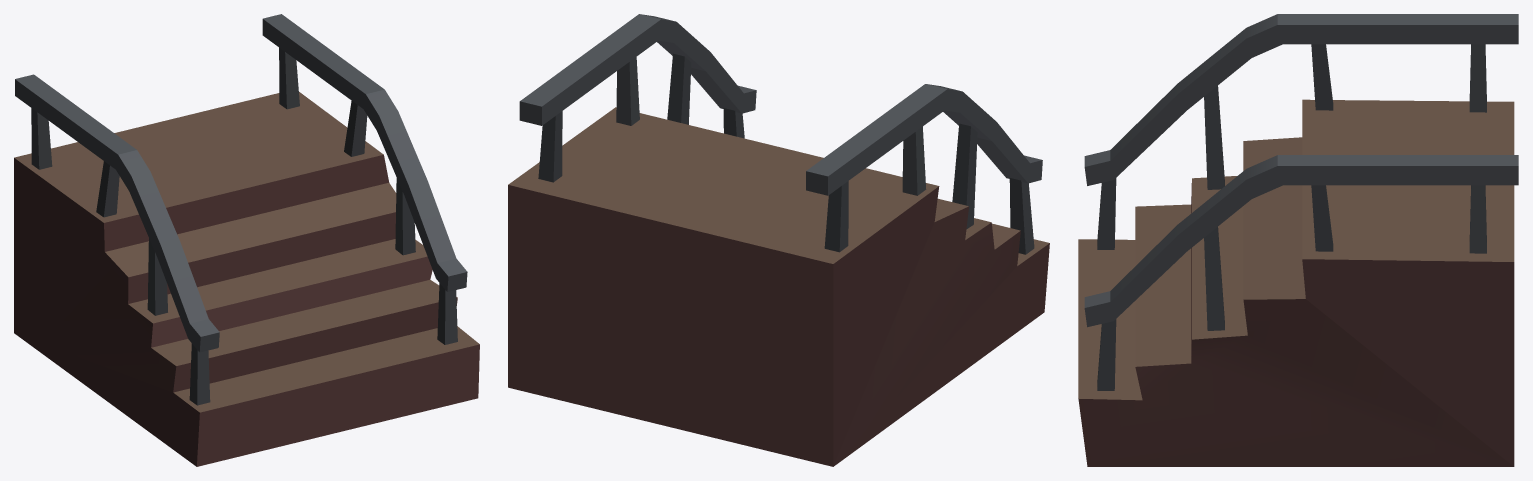
File: Stairs_A1.fbx
3 renders of one model, left to right at view 1: azimuth 30°, elevation 25°; view 2: azimuth 150°, elevation 25°; view 3: azimuth 270°, elevation 25°, orthographic. The views are drawn at different scales.
Visible parts, largest first — view 1: Stairs_A1; view 2: Stairs_A1; view 3: Stairs_A1.
Part boxes in pixels (x1=…): Stairs_A1: x1=14, y1=14, x2=479, y2=466; Stairs_A1: x1=508, y1=14, x2=1049, y2=466; Stairs_A1: x1=1078, y1=14, x2=1518, y2=466.
Bounding box in the file's own units: 258 × 216 × 293.
